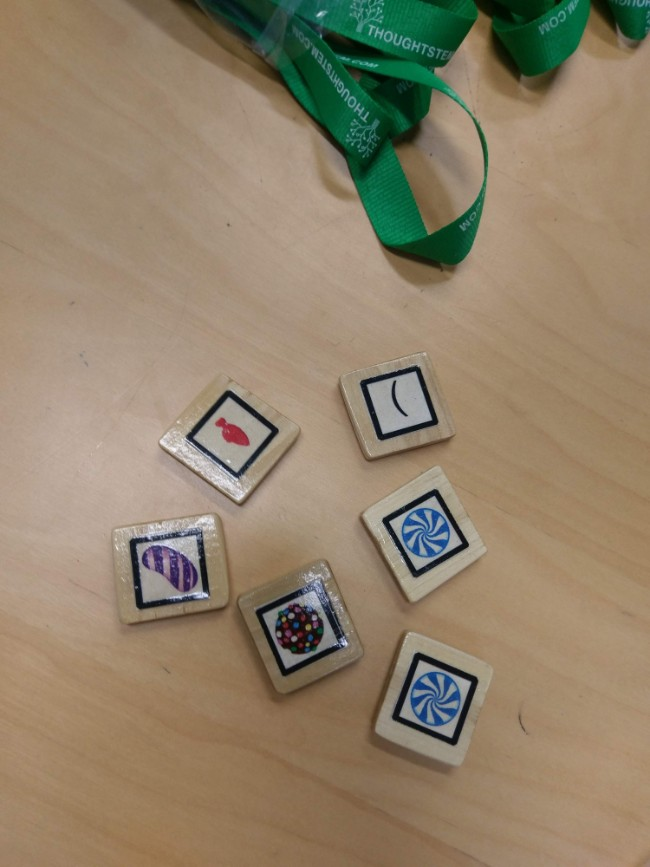cookie: (255, 578, 346, 676)
